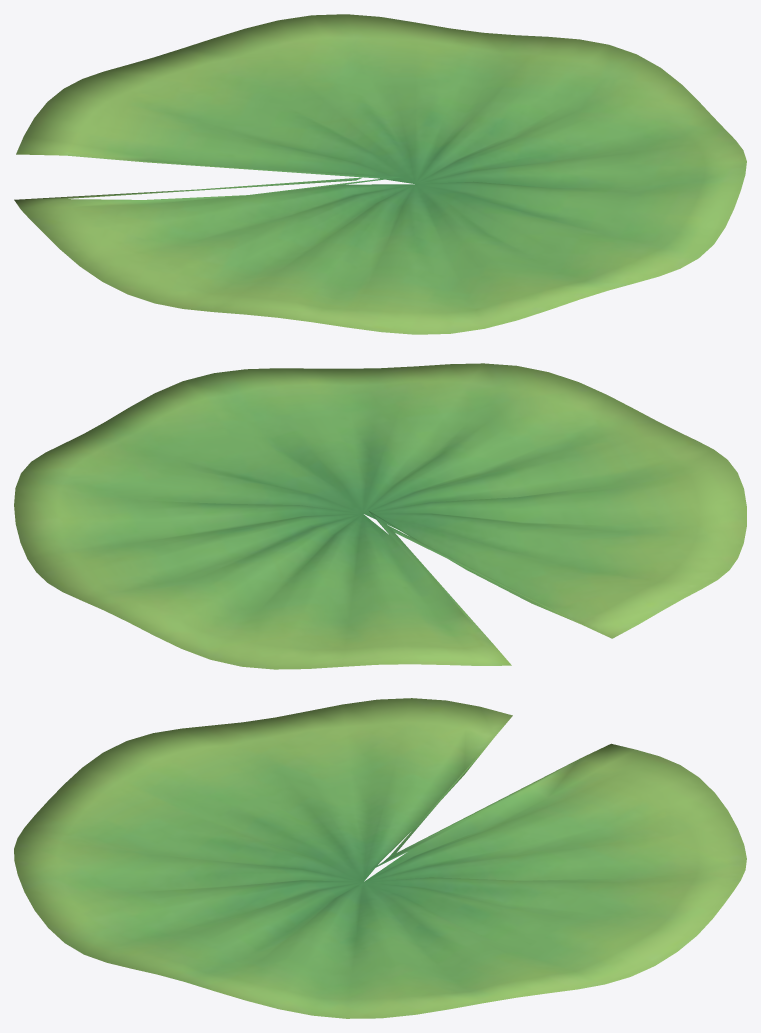
File: LilyPad_Single_1.fbx
3 views of the same model, one above another, from view 1: azimuth 30°, elevation 25°; view 2: azimuth 150°, elevation 25°; view 3: azimuth 270°, elevation 25° (orthographic).
Parts seen in each view (by area): view 1: LilyPad_Single_1; view 2: LilyPad_Single_1; view 3: LilyPad_Single_1.
Part boxes in pixels (<box>): LilyPad_Single_1: <box>14,14,746,334</box>; LilyPad_Single_1: <box>14,363,746,669</box>; LilyPad_Single_1: <box>14,698,746,1018</box>.
Bounding box in the file's own units: 0.25 × 0.00647 × 0.2495.
Materials: 1 (1 with a texture image).
